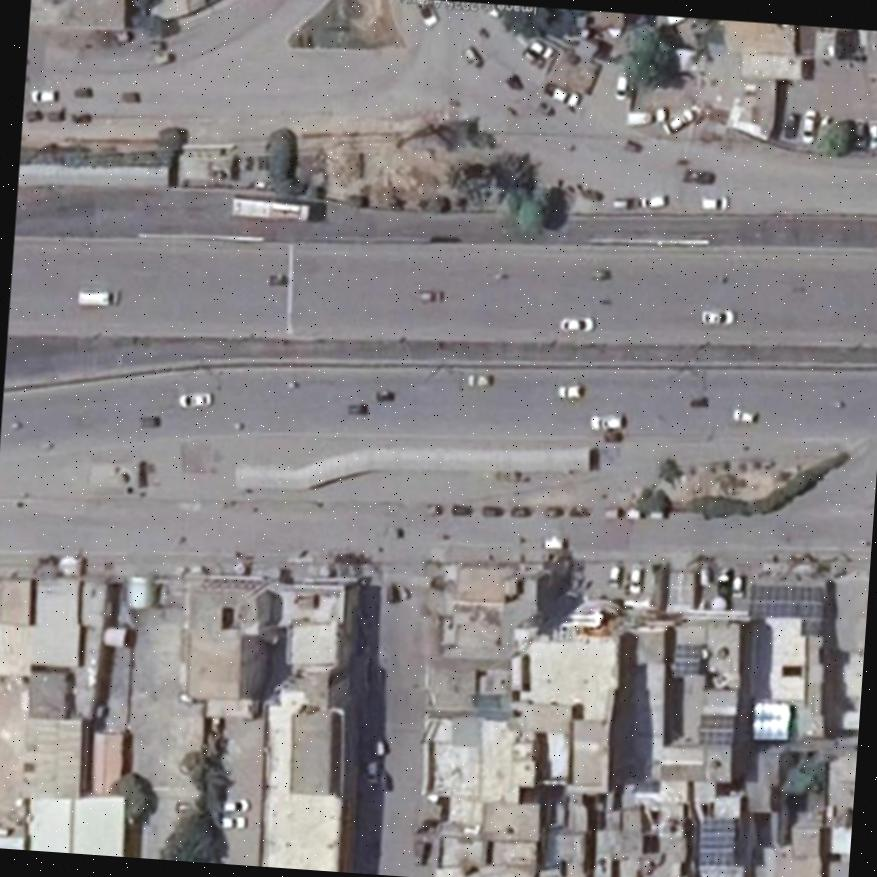Solarpanel: (748, 583, 824, 615), (693, 820, 734, 866), (698, 714, 734, 749), (669, 643, 698, 671)
